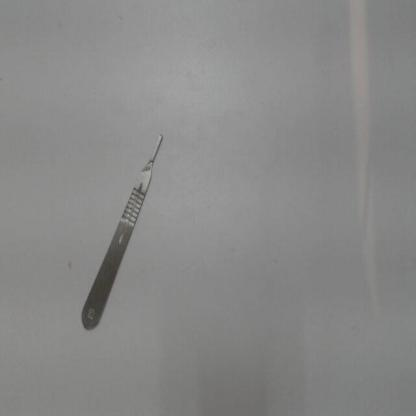No.3 BP Handle: (70, 127, 169, 343)
